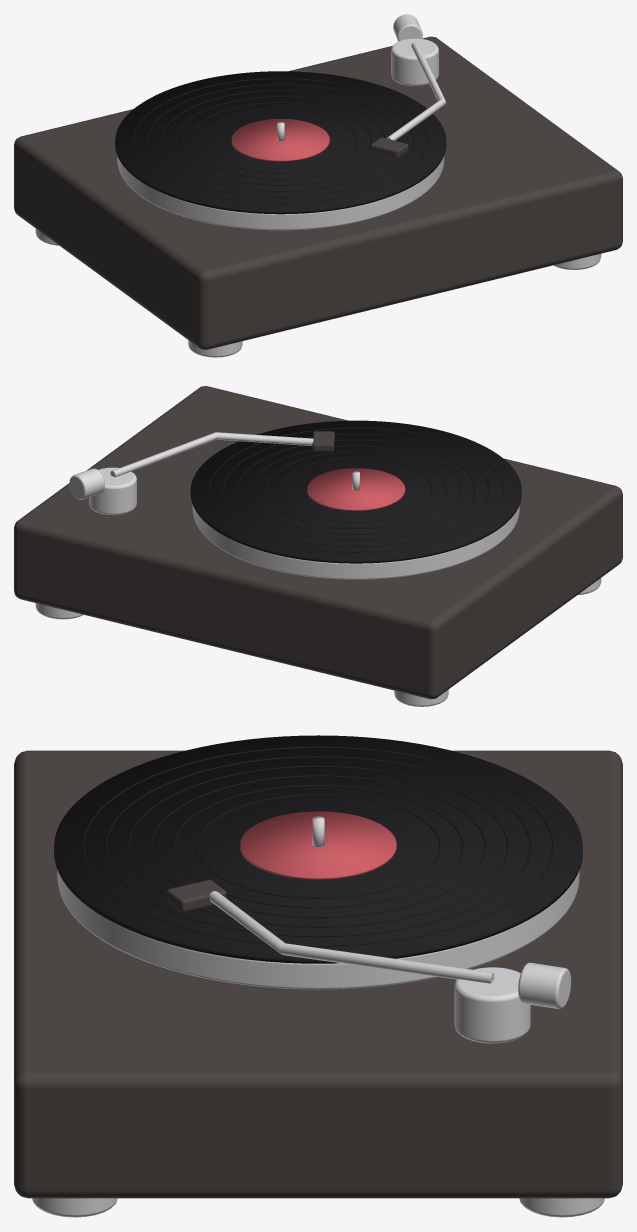
Rendered from turntable.glb.
3 views of the same model, one above another, from view 1: azimuth 30°, elevation 25°; view 2: azimuth 150°, elevation 25°; view 3: azimuth 270°, elevation 25° (orthographic). The views are drawn at different scales.
Visible parts, largest first — view 1: Plinth, Record, Platter, RecordLabel, ArmBase, Groove5, Groove4, Arm, Groove3, Groove2, Groove1, Counterweight (+3 smaller); view 2: Plinth, Record, Platter, RecordLabel, Arm, ArmBase, Groove5, Groove4, Counterweight, Groove3, Groove2, Groove1 (+3 smaller); view 3: Plinth, Record, Platter, RecordLabel, ArmBase, Arm, Groove5, Groove4, Counterweight, Groove3, Groove2, Groove1 (+4 smaller).
Part boxes in pixels (x1,y1,x2,y2): Plinth: [14, 36, 622, 349]; Record: [115, 71, 446, 214]; Platter: [117, 155, 444, 230]; RecordLabel: [231, 118, 329, 161]; ArmBase: [391, 38, 438, 85]; Groove5: [133, 78, 428, 203]; Groove4: [147, 84, 414, 197]; Arm: [386, 42, 446, 140]; Groove3: [161, 90, 399, 191]; Groove2: [175, 96, 385, 185]; Groove1: [189, 102, 371, 179]; Counterweight: [393, 14, 422, 41]; Plinth: [14, 386, 622, 699]; Record: [190, 420, 521, 563]; Platter: [192, 505, 519, 579]; RecordLabel: [307, 468, 405, 510]; Arm: [110, 432, 313, 477]; ArmBase: [89, 467, 136, 515]; Groove5: [208, 427, 503, 552]; Groove4: [222, 433, 489, 546]; Counterweight: [69, 468, 104, 499]; Groove3: [237, 439, 475, 540]; Groove2: [251, 445, 461, 534]; Groove1: [265, 451, 447, 528]; Plinth: [14, 750, 622, 1198]; Record: [54, 735, 582, 963]; Platter: [57, 870, 579, 989]; RecordLabel: [240, 811, 396, 879]; ArmBase: [454, 967, 530, 1043]; Arm: [209, 891, 494, 983]; Groove5: [82, 746, 554, 946]; Groove4: [105, 756, 531, 937]; Counterweight: [518, 962, 571, 1008]; Groove3: [127, 765, 509, 927]; Groove2: [150, 775, 486, 917]; Groove1: [173, 784, 463, 908].
Bounding box in the file's own units: 0.45 × 0.139 × 0.35.
